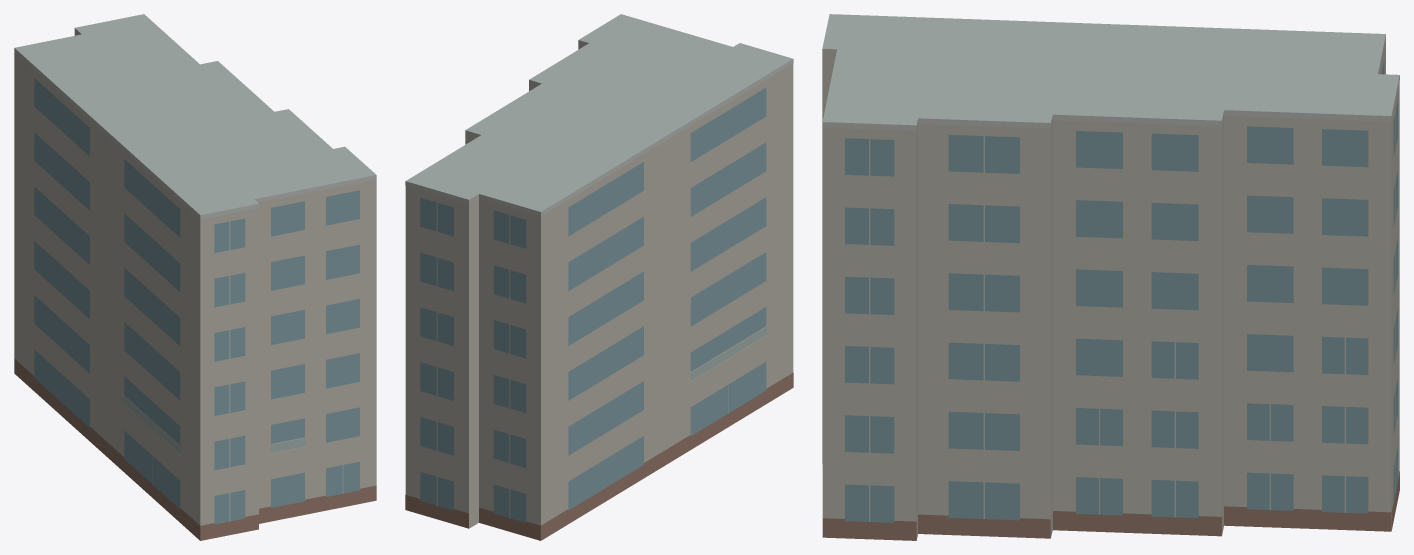
File: survey-upis-32532457.glb
The picture shows the model from 3 angles, left to right: view 1: azimuth 30°, elevation 25°; view 2: azimuth 150°, elevation 25°; view 3: azimuth 270°, elevation 25°; orthographic projection. The views are drawn at different scales.
Visible parts, largest first — view 1: survey-upis-32532457.tmp; view 2: survey-upis-32532457.tmp; view 3: survey-upis-32532457.tmp.
Boxes of the visible parts, x1,y1,x2,y2 form: survey-upis-32532457.tmp: [14, 14, 376, 540]; survey-upis-32532457.tmp: [405, 14, 793, 540]; survey-upis-32532457.tmp: [822, 14, 1399, 540].
Bounding box in the file's own units: 10.53 × 18.3 × 23.06.
